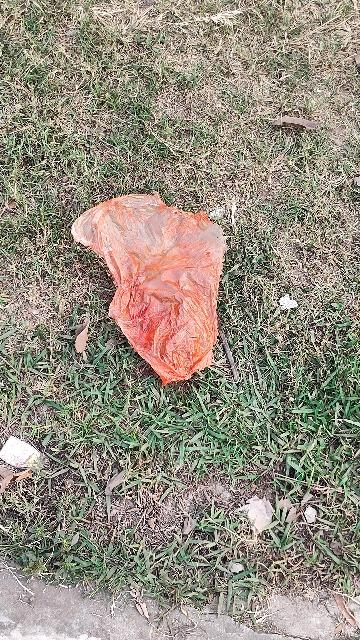polythene: (88, 202, 235, 381)
